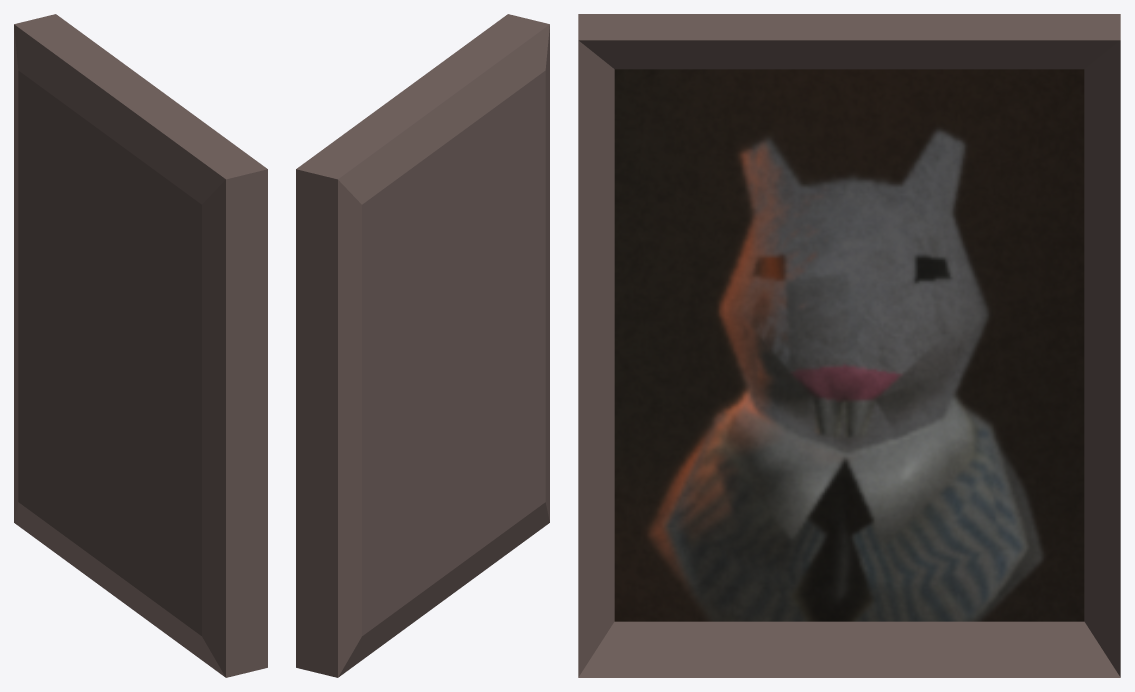
File: props_ratPortrait.fbx
3 renders of one model, left to right at view 1: azimuth 30°, elevation 25°; view 2: azimuth 150°, elevation 25°; view 3: azimuth 270°, elevation 25°, orthographic. The views are drawn at different scales.
Visible parts, largest first — view 1: Cube; view 2: Cube; view 3: Cube.
Boxes of the visible parts, left/top/right/bottom form: Cube: left=14, top=14, right=267, bottom=677; Cube: left=296, top=14, right=549, bottom=677; Cube: left=578, top=14, right=1120, bottom=677.
Size of the model in its own units: 44.51 by 409 by 316.
